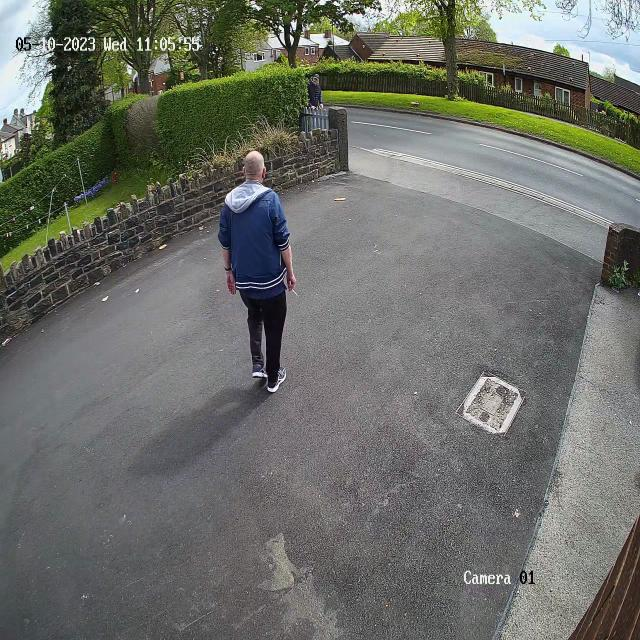human: (213, 144, 301, 406)
